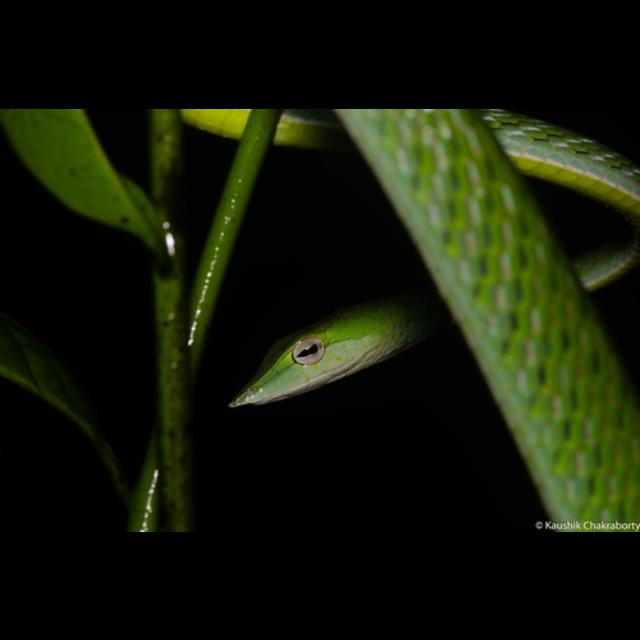snake: (176, 108, 640, 532)
